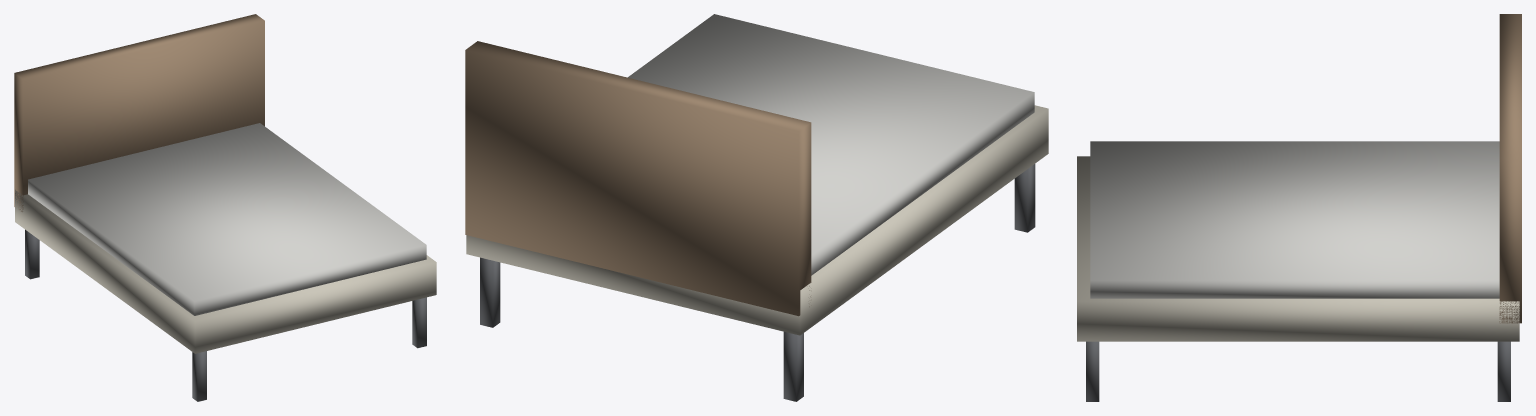
The model's file is double_bed.glb.
The picture shows the model from 3 angles, left to right: view 1: azimuth 30°, elevation 25°; view 2: azimuth 150°, elevation 25°; view 3: azimuth 270°, elevation 25°; orthographic projection. The views are drawn at different scales.
Parts seen in each view (by area): view 1: world; view 2: world; view 3: world.
Boxes of the visible parts, x1,y1,x2,y2 form: world: (14, 14, 436, 401); world: (465, 14, 1048, 401); world: (1077, 14, 1521, 401).
Size of the model in its own units: 1.55 by 1.23 by 2.01.
